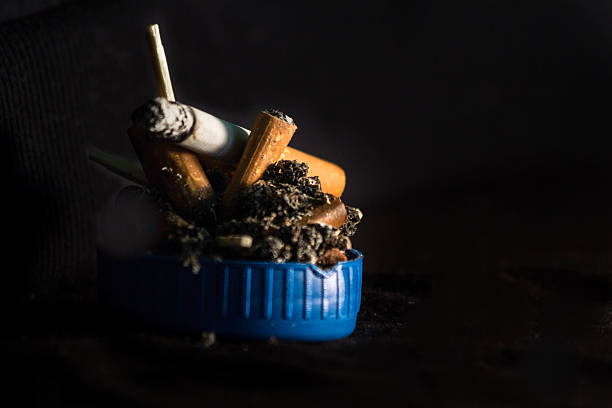cigarette: (140, 98, 347, 199), (126, 108, 214, 205), (220, 105, 299, 200)
